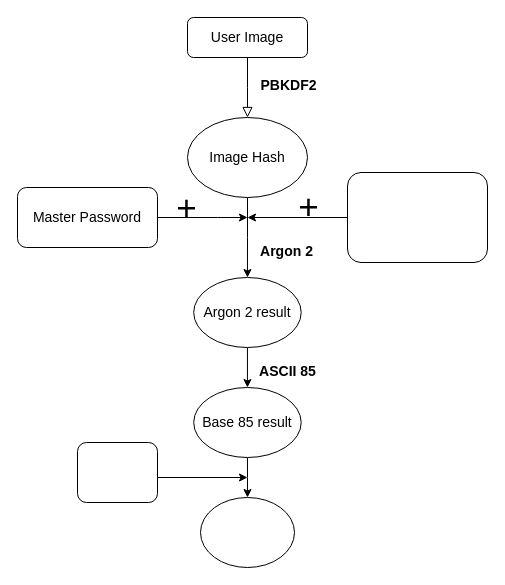
This 505x585 diagram has some shape labels left out. The shapes that lost their labels are listed below. From the top down, each one's centre as x and y in pixels, then its label:
At (x=417, y=217): "Metadata - Website - Version - Username".
At (x=117, y=472): "Length (16 - 64)".
At (x=247, y=532): "Password result".
